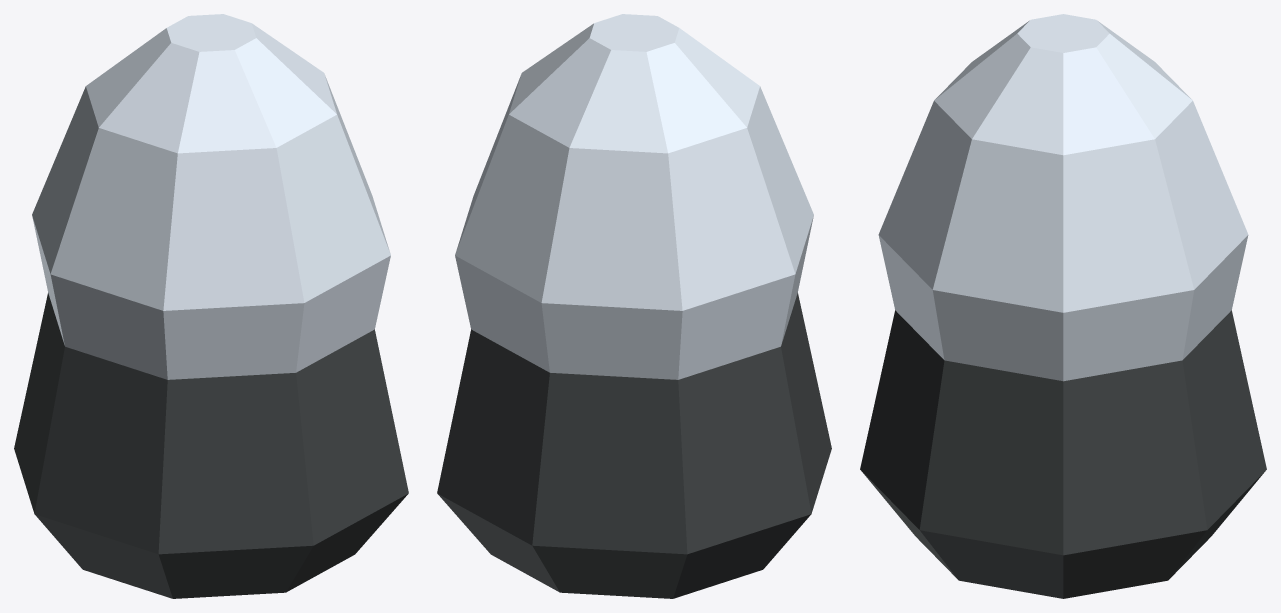
The model's file is emergency_beacon.glb.
3 renders of one model, left to right at view 1: azimuth 30°, elevation 25°; view 2: azimuth 150°, elevation 25°; view 3: azimuth 270°, elevation 25°, orthographic.
Parts seen in each view (by area): view 1: Cúpula, Base; view 2: Cúpula, Base; view 3: Cúpula, Base.
Part boxes in pixels (x1=…): Cúpula: x1=32, y1=14, x2=390, y2=379; Base: x1=14, y1=293, x2=408, y2=598; Cúpula: x1=455, y1=14, x2=813, y2=379; Base: x1=437, y1=293, x2=831, y2=598; Cúpula: x1=878, y1=14, x2=1248, y2=381; Base: x1=860, y1=310, x2=1266, y2=598.
Size of the model in its own units: 0.22 by 0.3 by 0.22.
